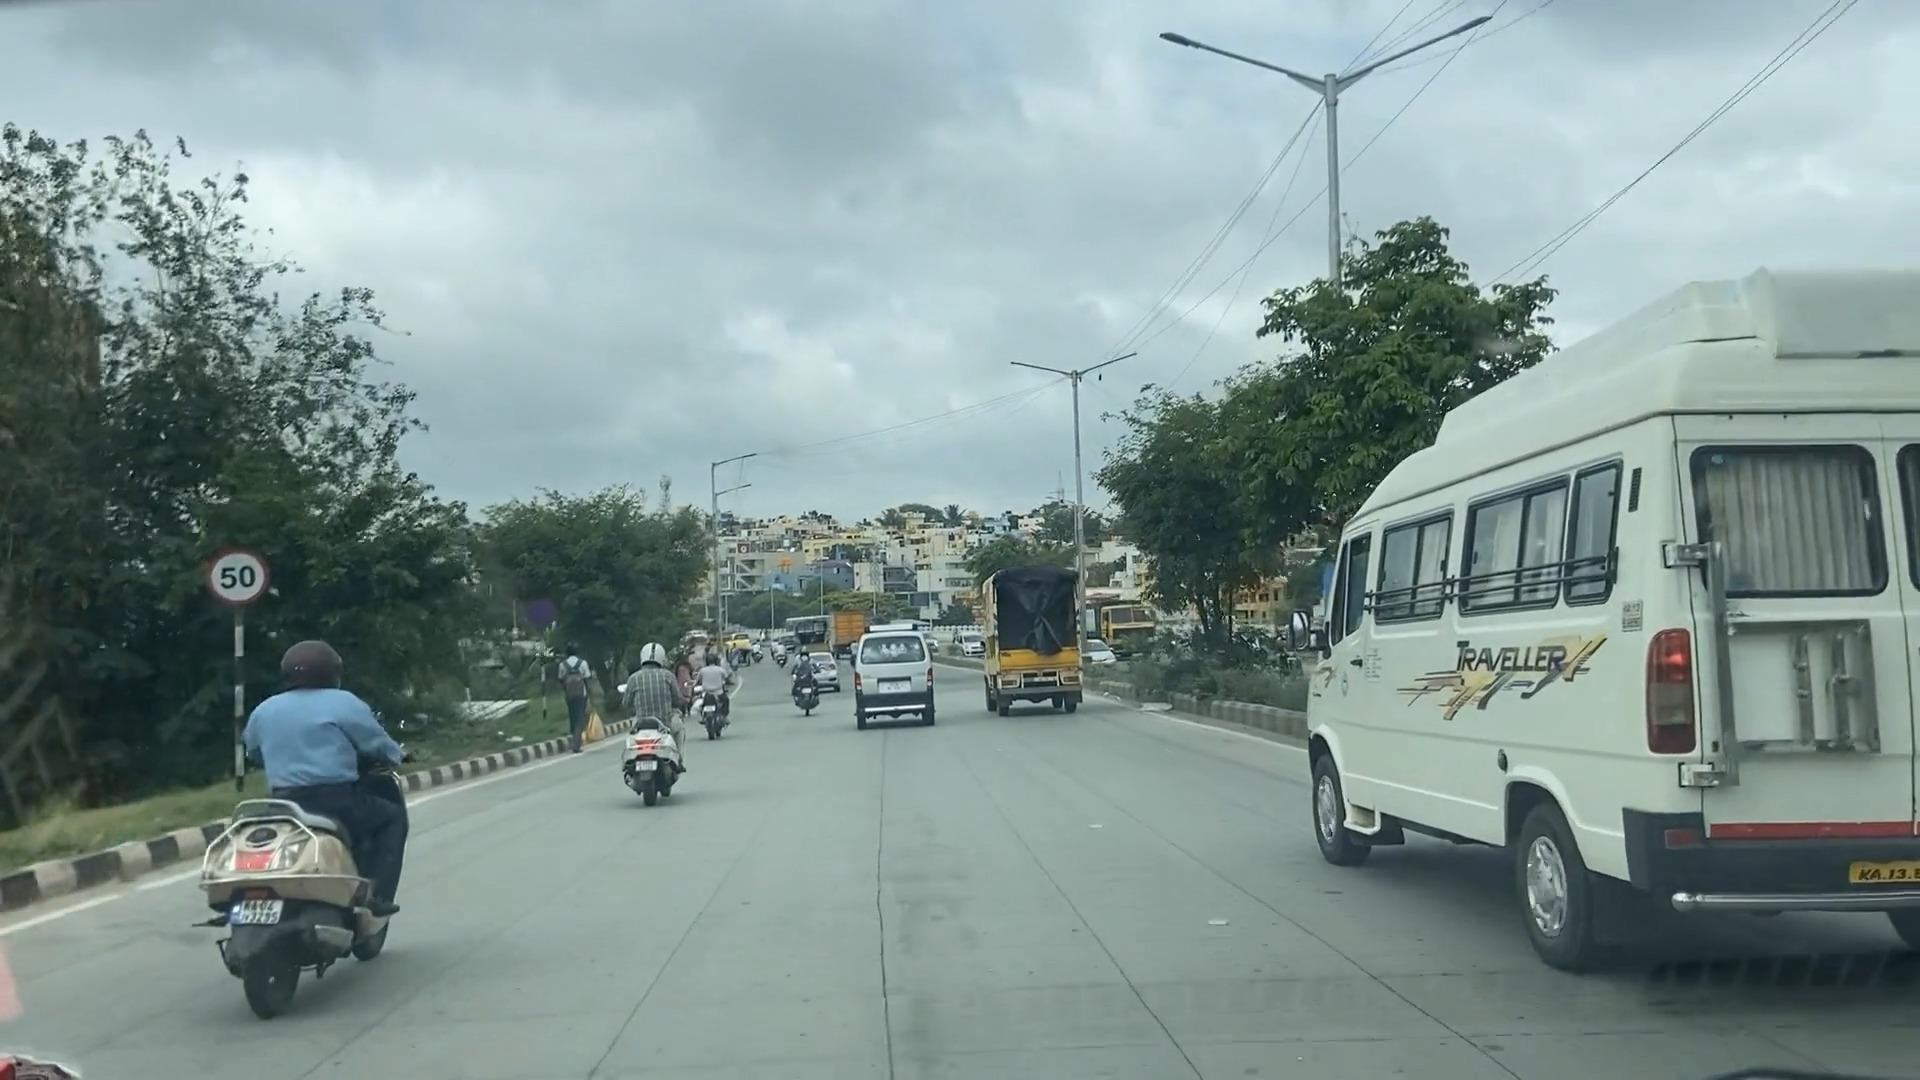HMV: (1325, 293, 1920, 1009), (960, 566, 1105, 727)
LMV: (236, 622, 415, 1005), (593, 641, 707, 812), (845, 608, 934, 728)
